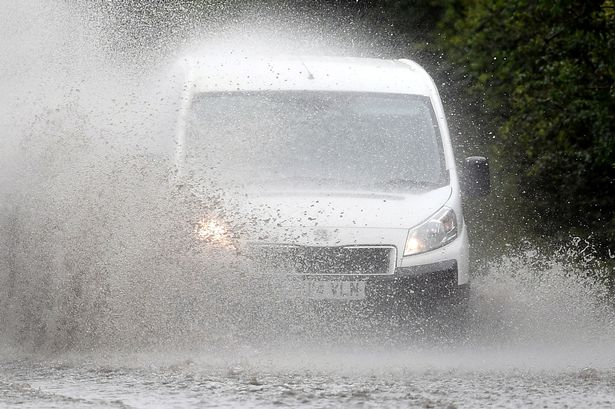car: (169, 47, 491, 353)
